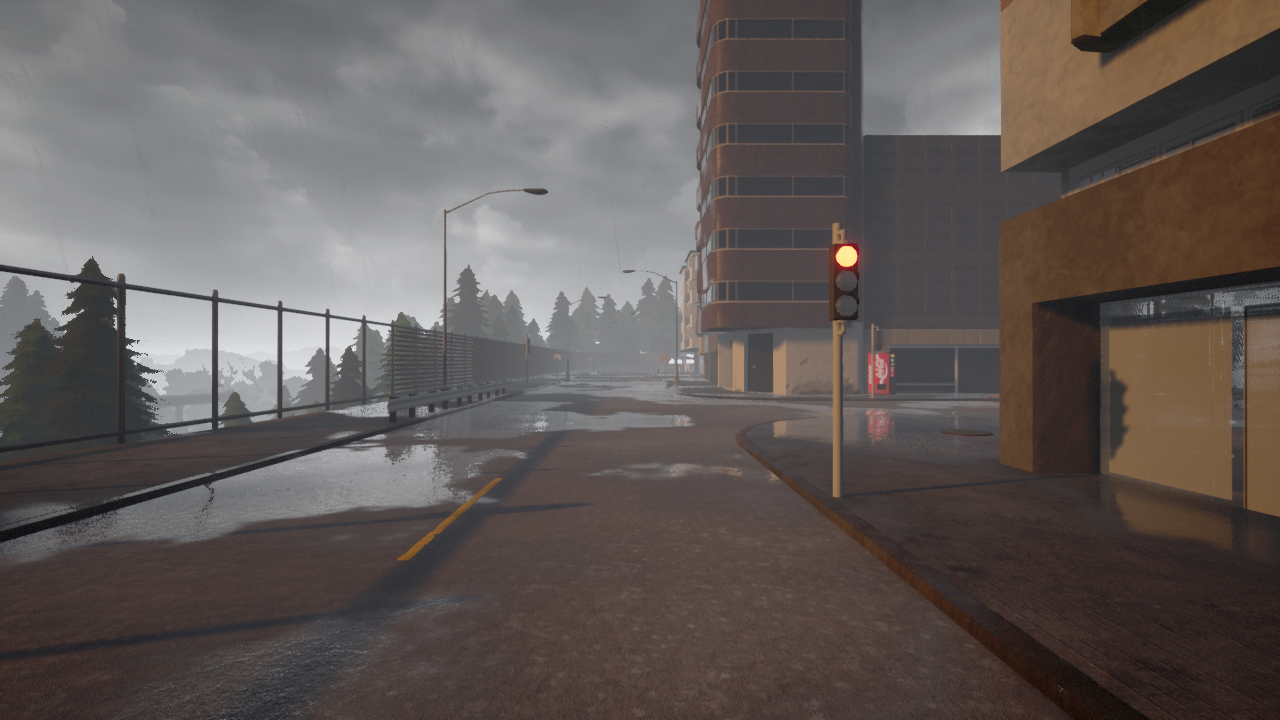red: (830, 240, 862, 320)
